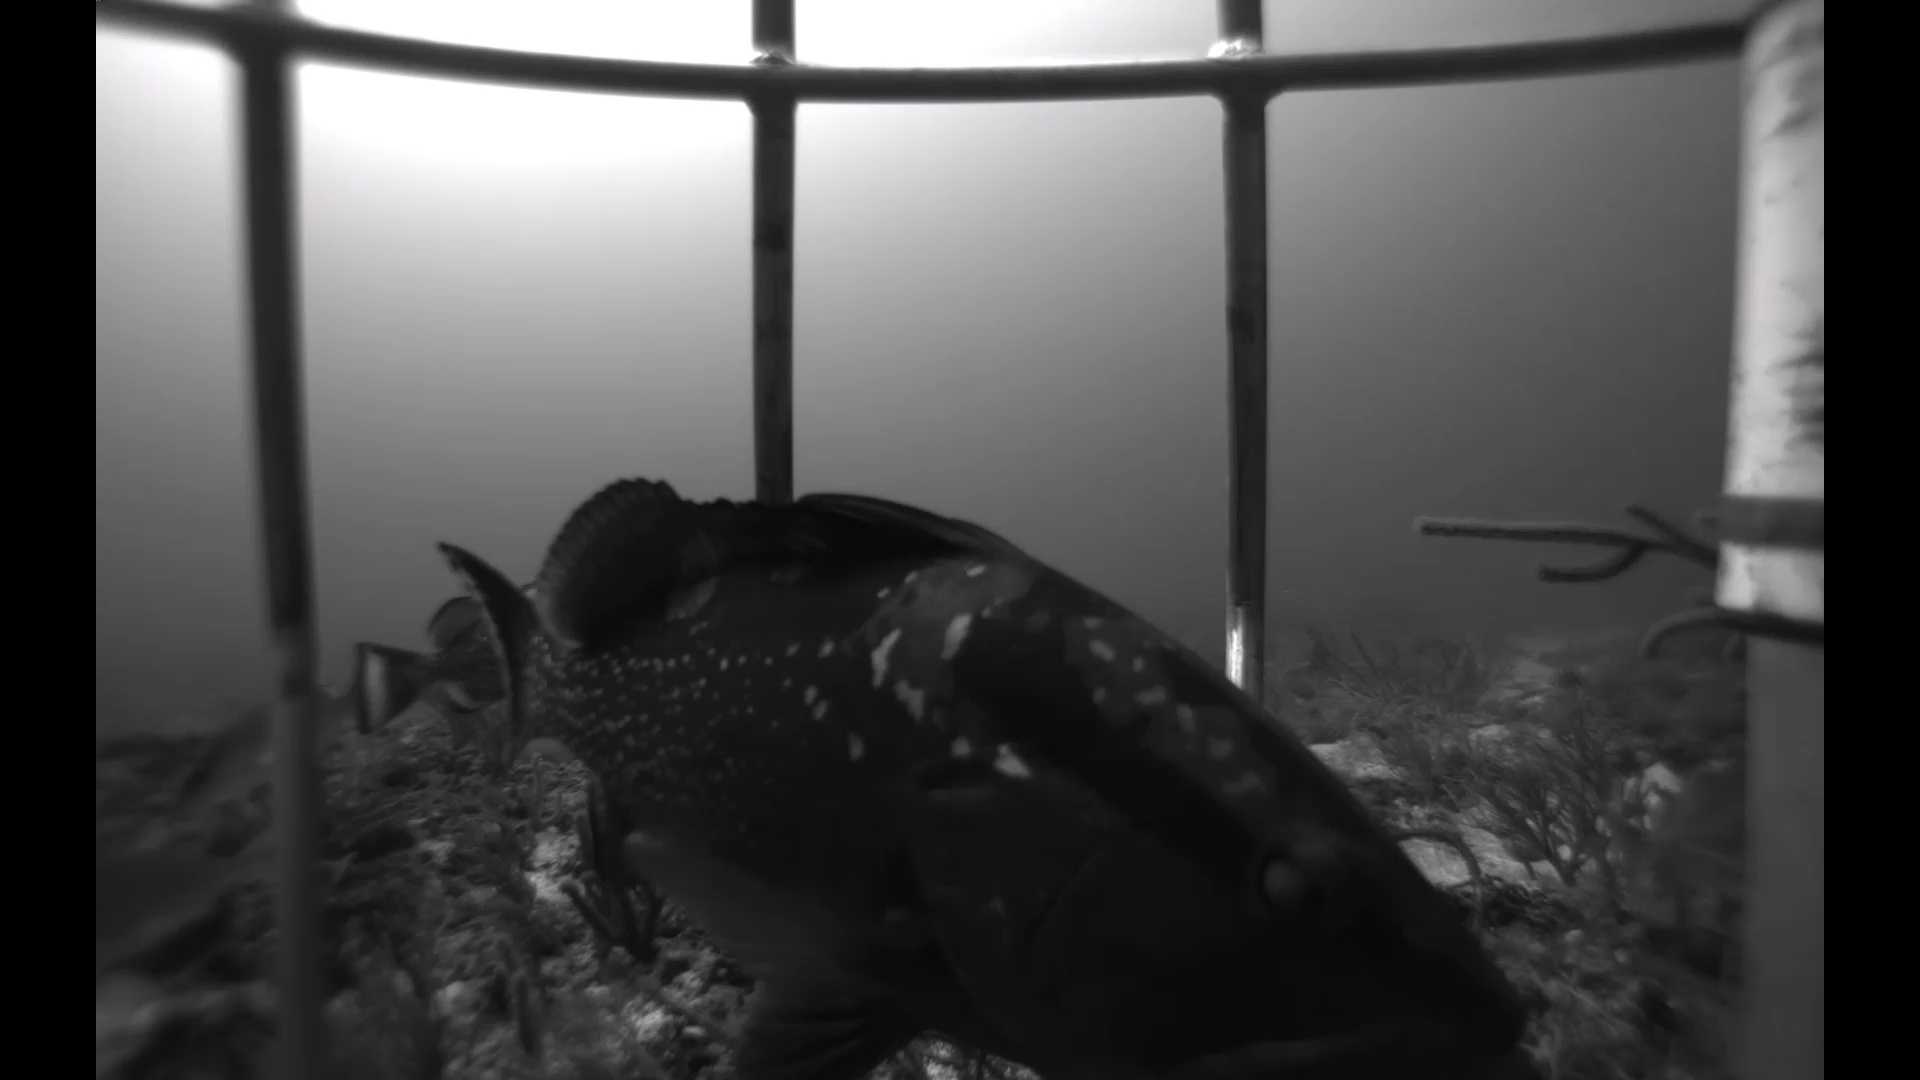CALAMUSNODOSUS-170210608: (94, 800, 289, 989), (1575, 740, 1749, 926)
EPINEPHELUSMORIO-170021211: (369, 411, 1557, 1080), (353, 556, 543, 741)
LUTJANUSGRISEUS-170151109: (146, 645, 386, 843)
